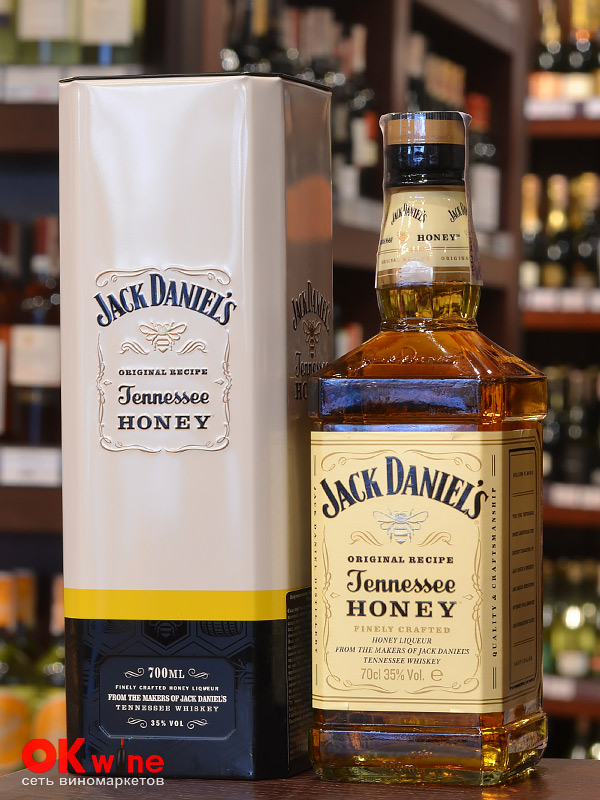Jack Daniel: (295, 106, 558, 792)
